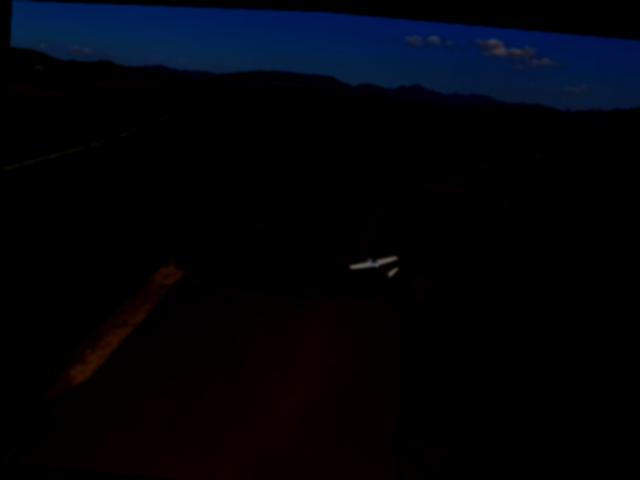uav: (344, 240, 407, 282)
